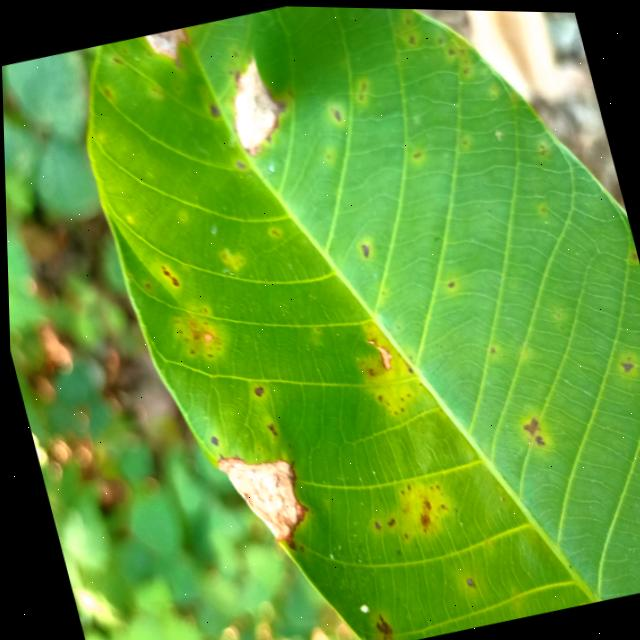Leaf-Blight: (210, 440, 311, 553), (216, 54, 283, 153), (141, 25, 193, 65)
